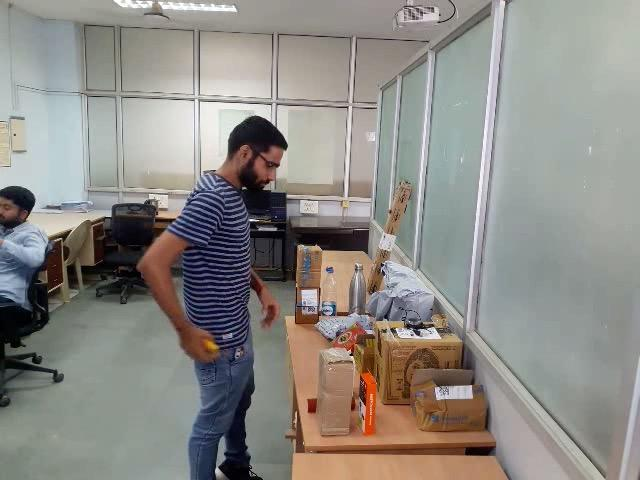Normal: (2, 2, 554, 480)
shoplifting: (117, 289, 316, 480)
